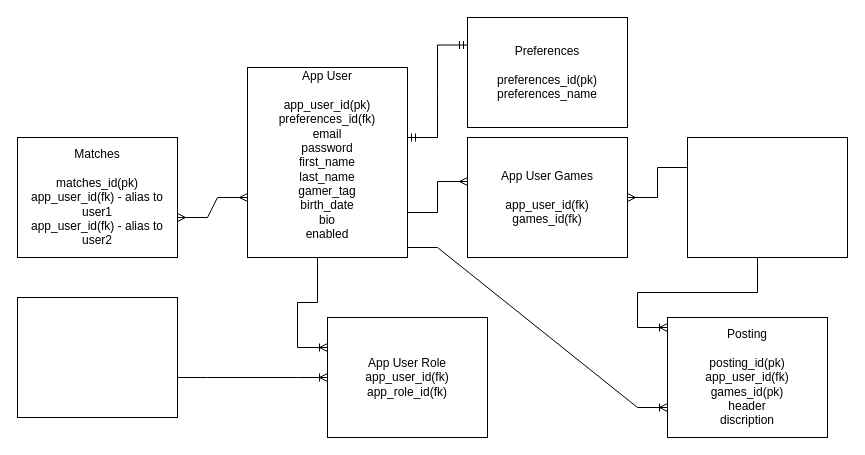
The diagram is 865 pixels wide and 455 high, and some of its shapes have lost their labels. The box of each missing label's shape, as (x1, y1, x2, y2) in pixels:
App Role app_role_id(pk) role_name: (16, 296, 178, 418)
Games games_id(pk) game_title: (686, 136, 848, 258)
